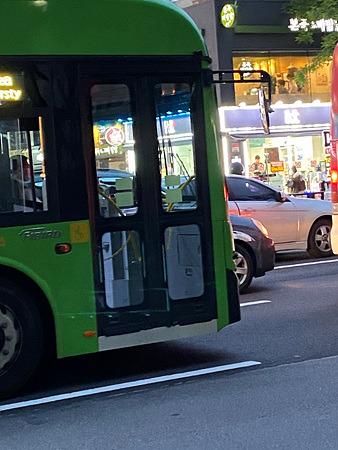entrance: (77, 61, 217, 333)
